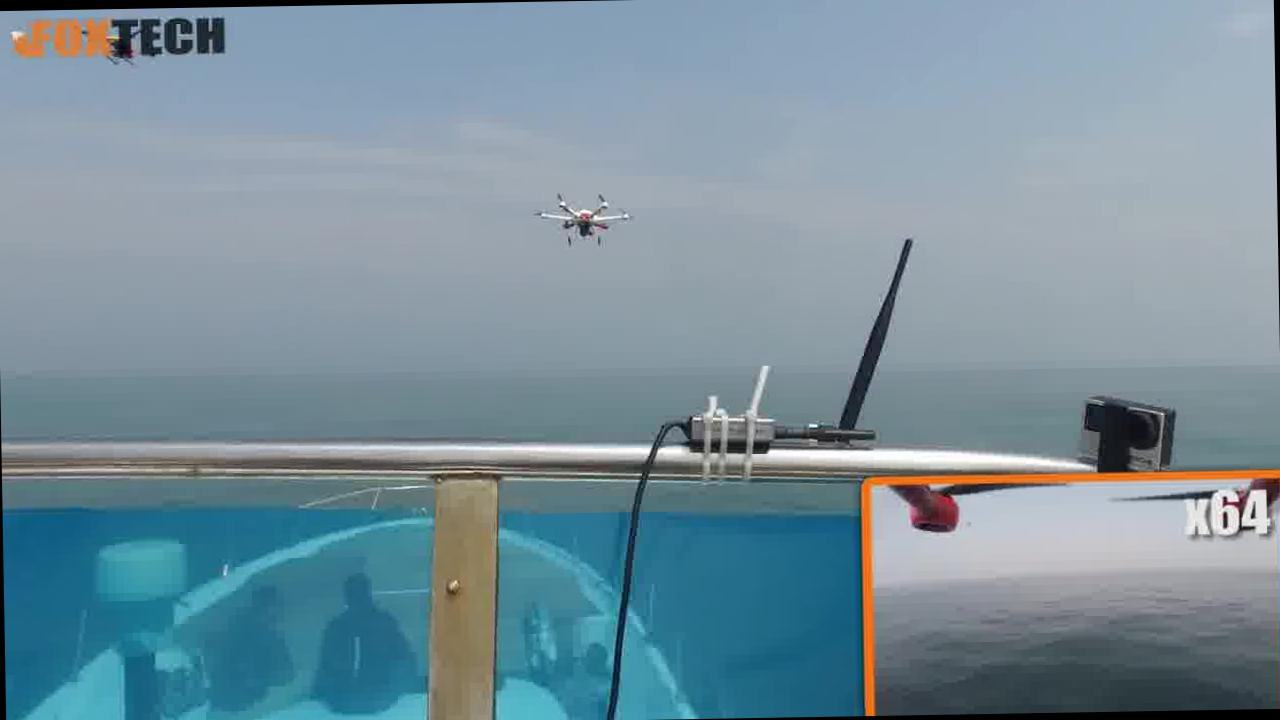drone: (511, 182, 632, 249)
